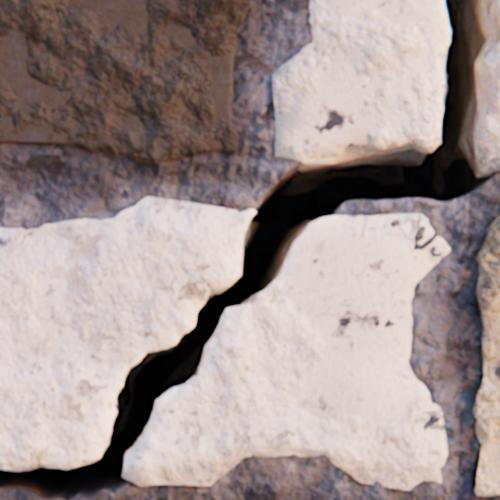brick: (0, 0, 249, 167), (471, 216, 499, 495)
broken_brick: (123, 214, 448, 489), (0, 197, 255, 470), (272, 0, 448, 163), (480, 31, 499, 172), (494, 0, 499, 28)
crack: (0, 0, 499, 499)
